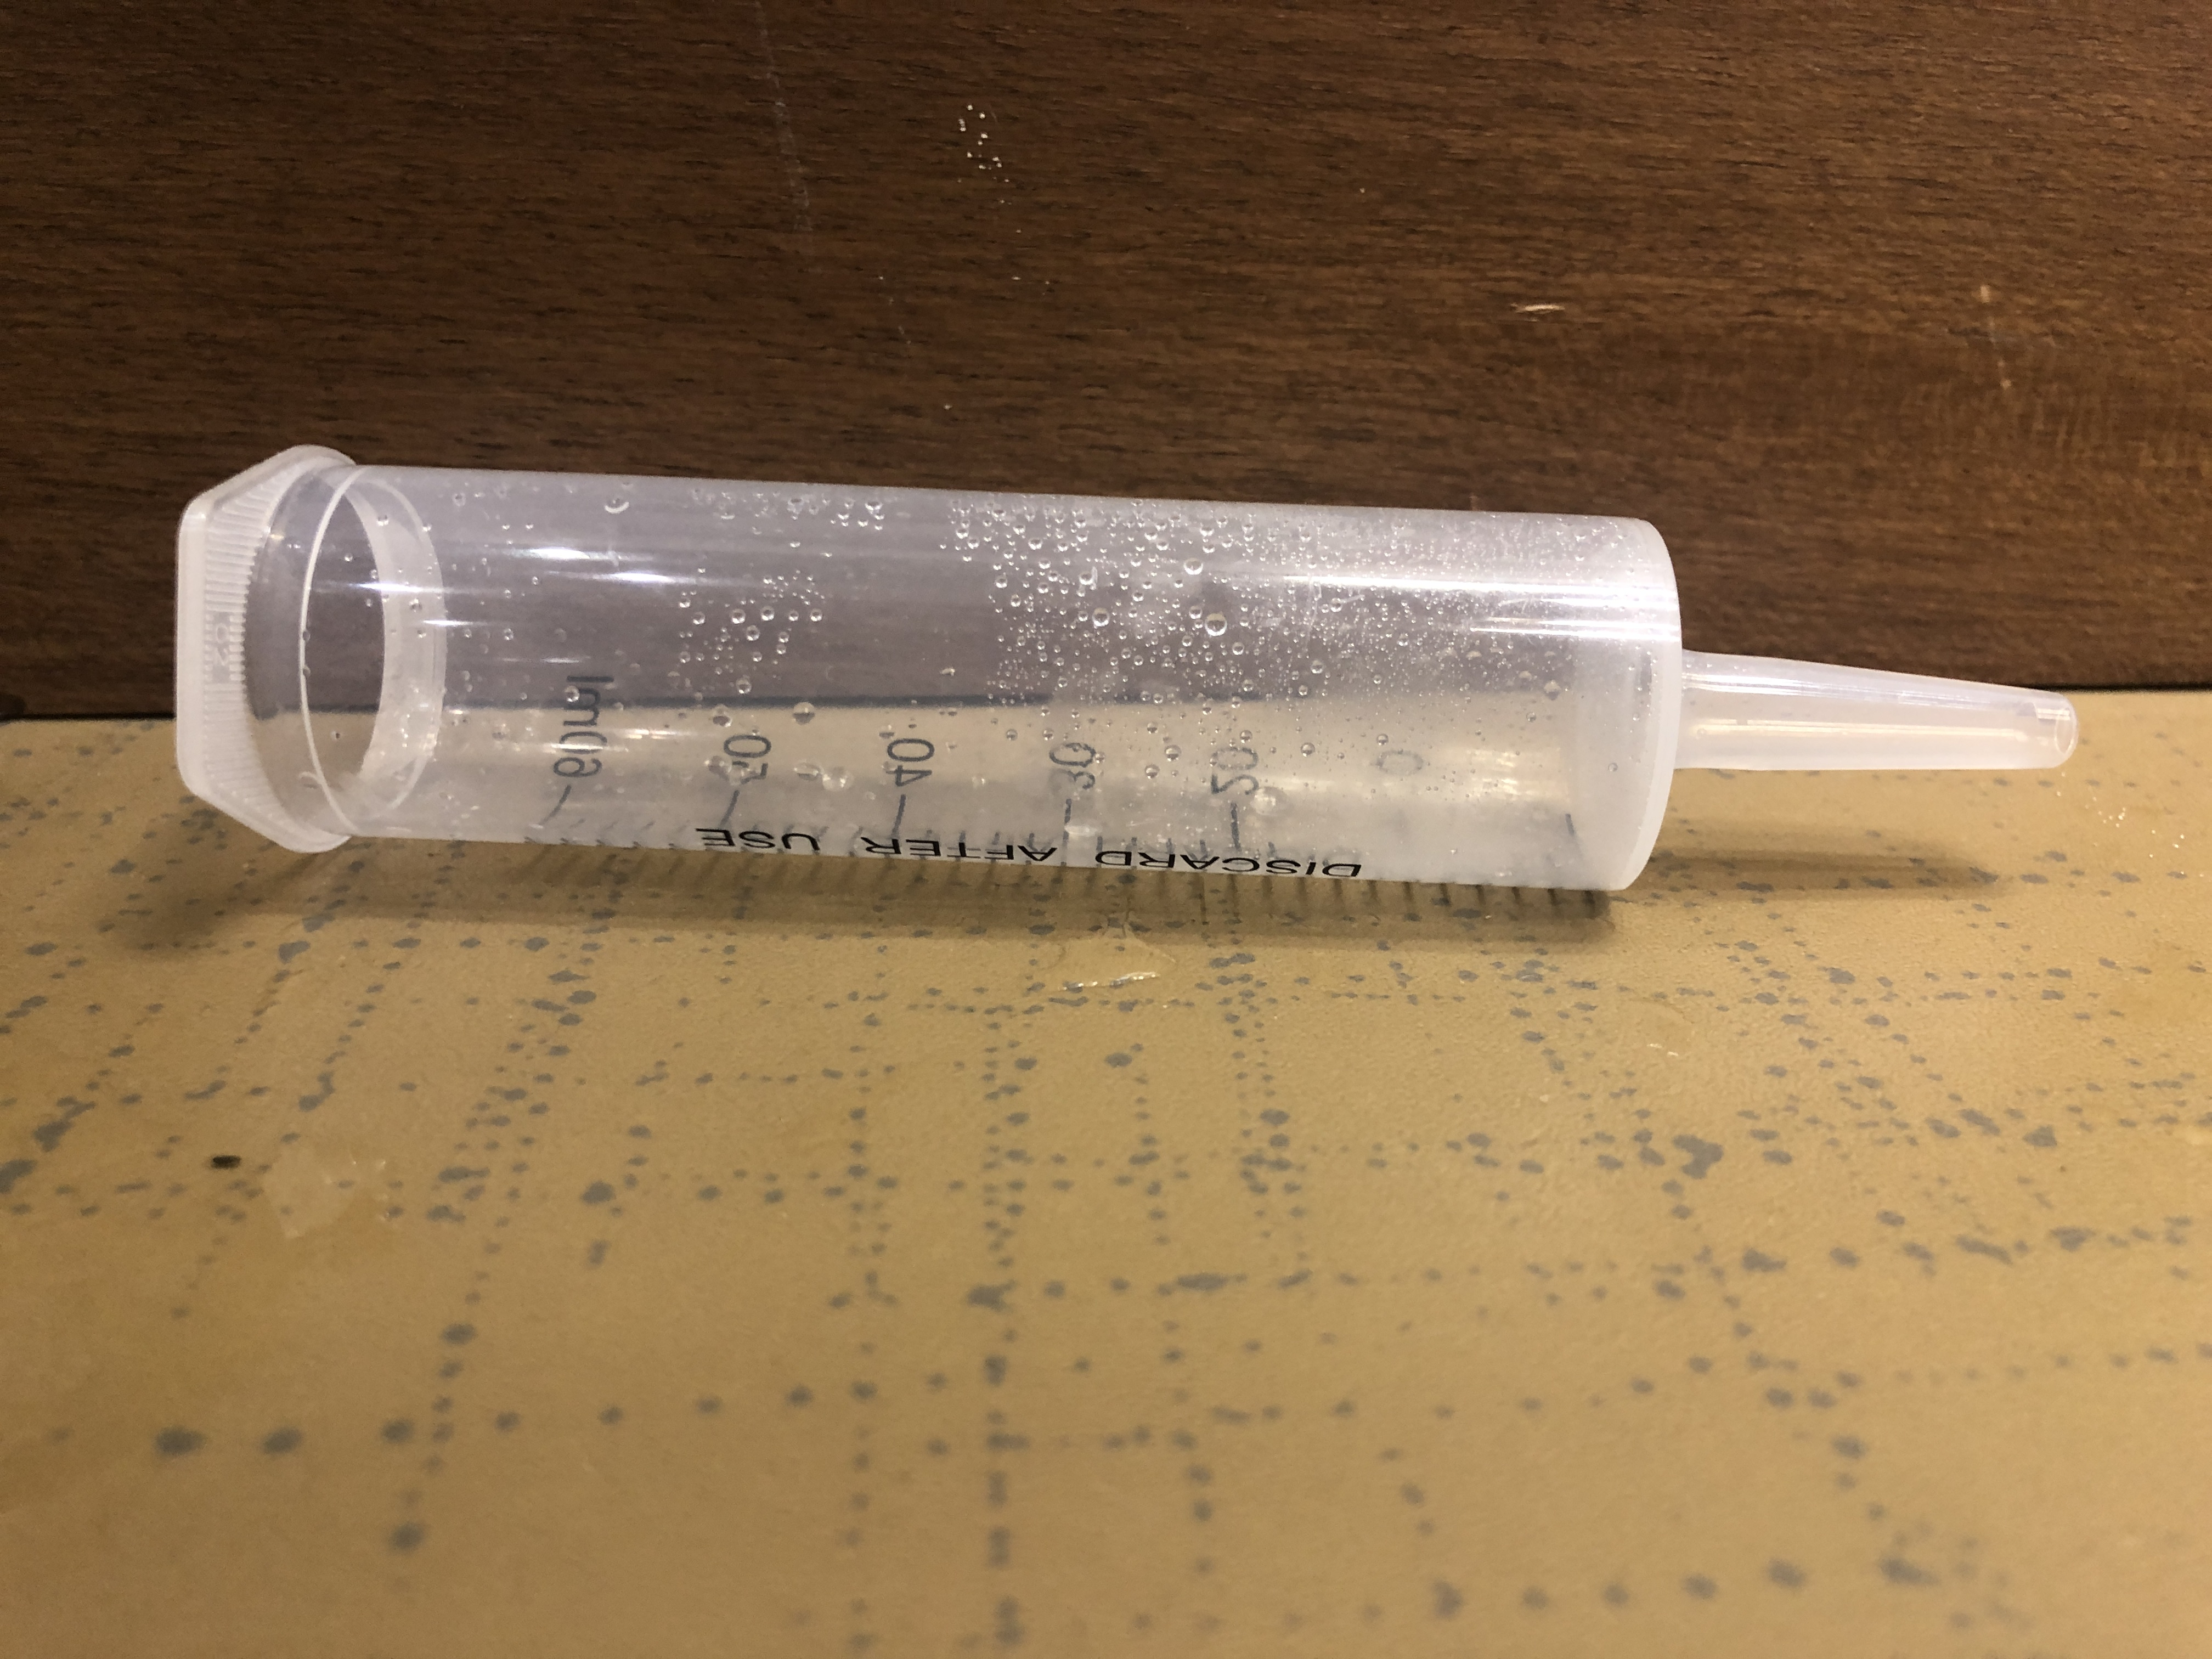syringe: (157, 423, 2094, 922)
